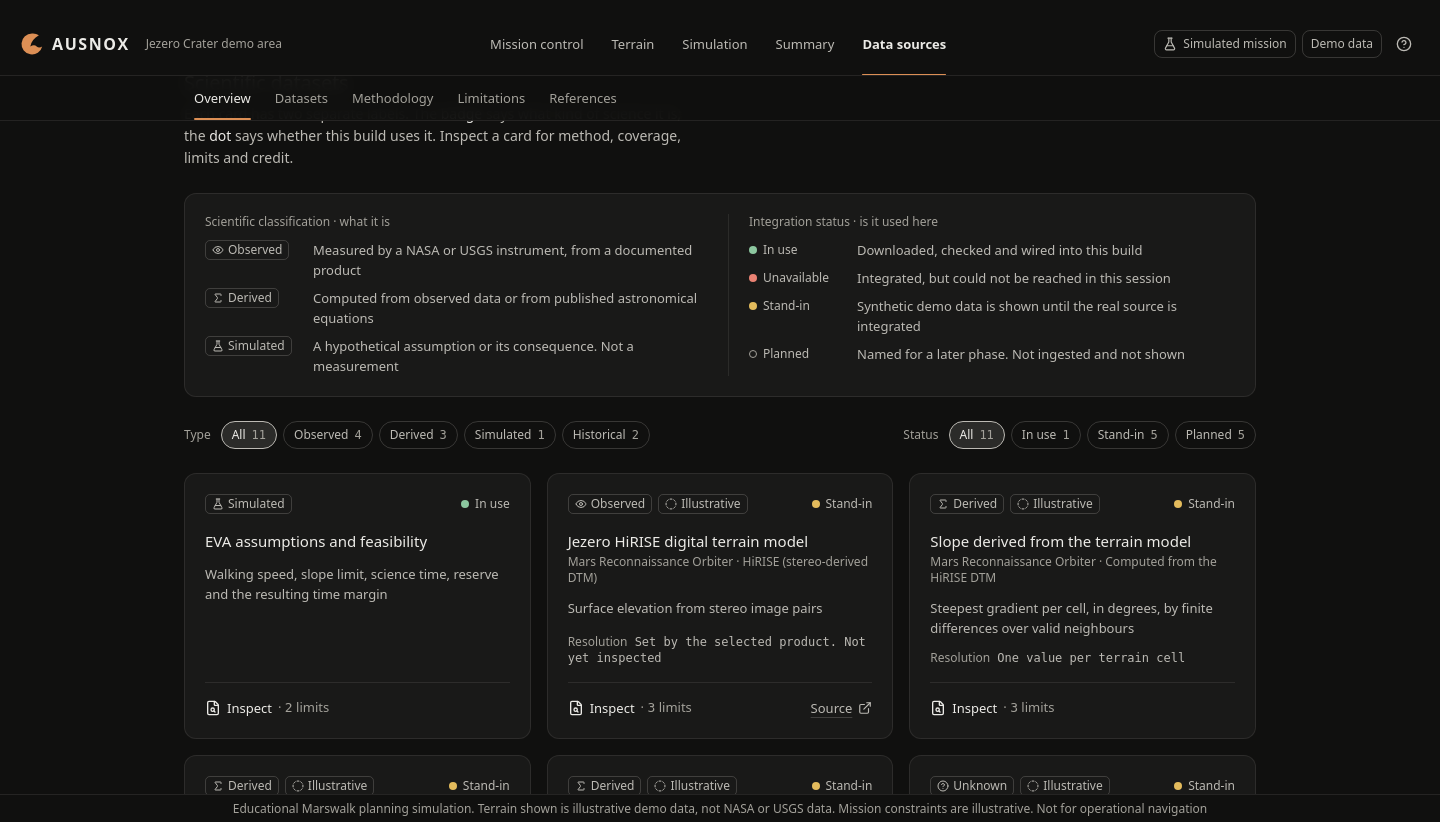
Test: Data sources page › filters datasets by classification and by status independently
(page scrolled)
Click the radio button labelled "Historical 2": point(606, 435) 562,421 -> 650,449
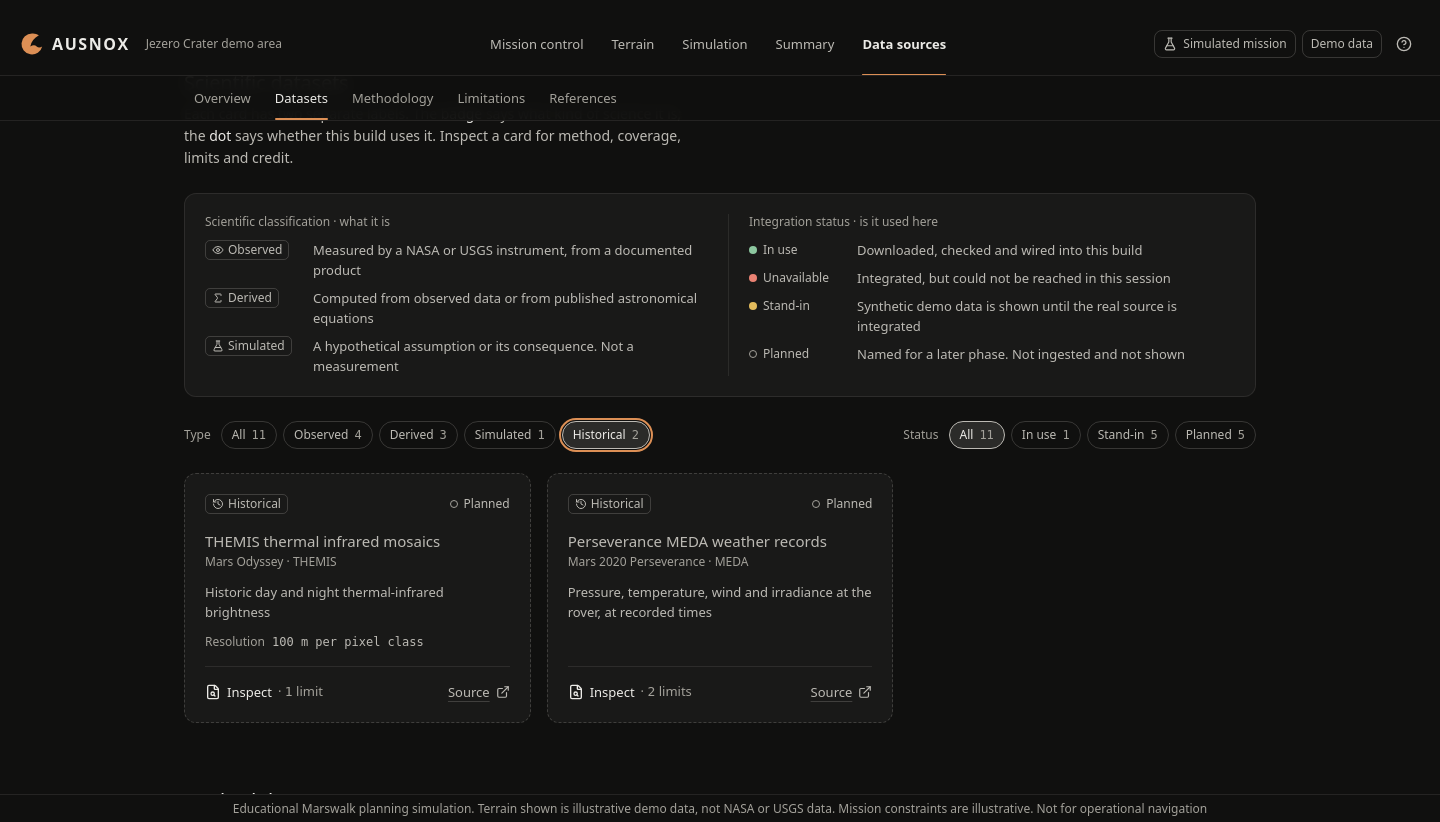
Check: the 6th list item is shown, box 184,473 -> 531,723
Click the radio button labelled "In use 1": point(1046, 435) 1011,421 -> 1081,449
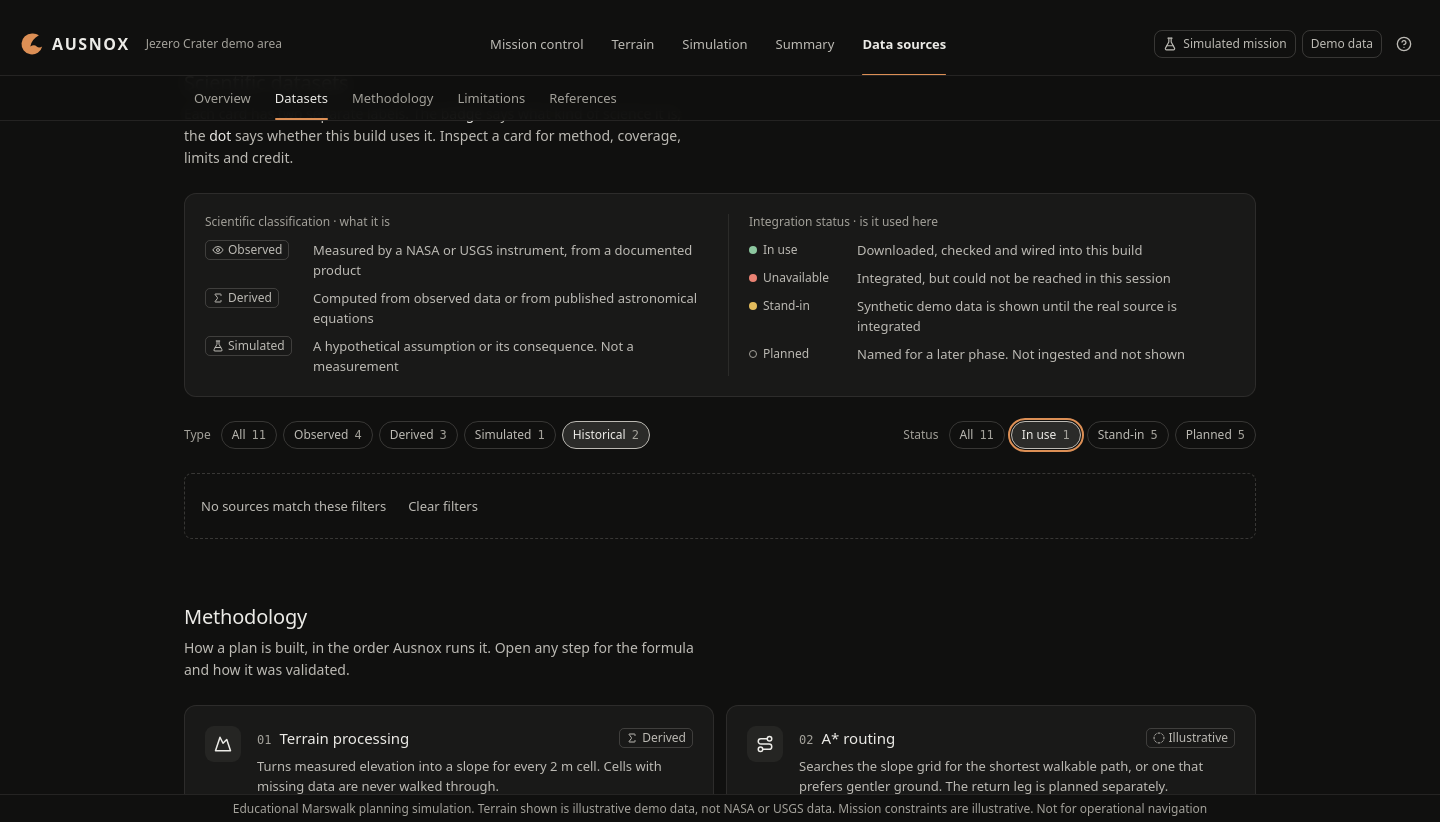
Check: the text "No sources match these filters" is shown, box 201,497 -> 386,515
Click the button "Clear filters": point(443, 506) 398,490 -> 488,522
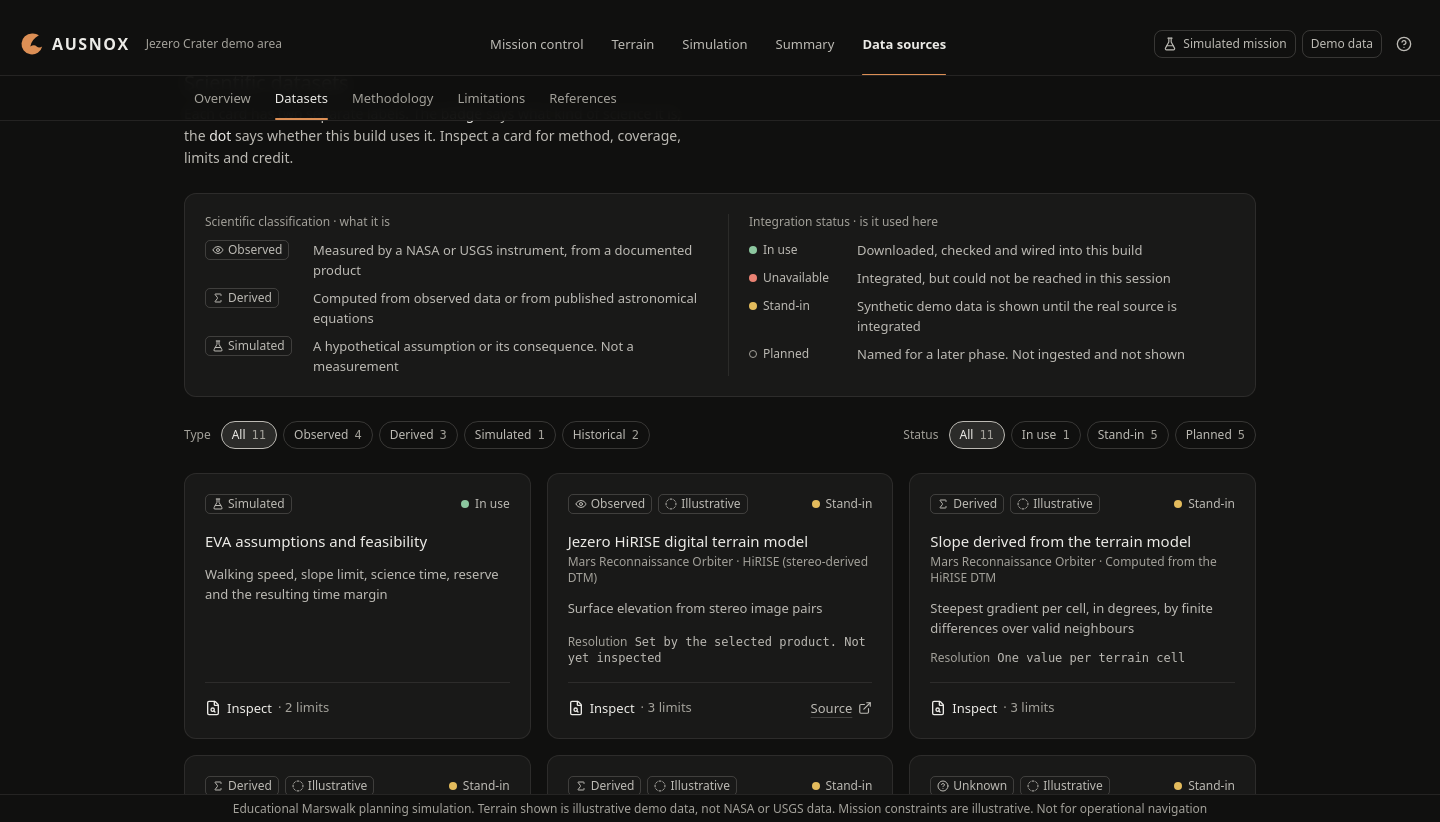
Check: the number of list items is 11
